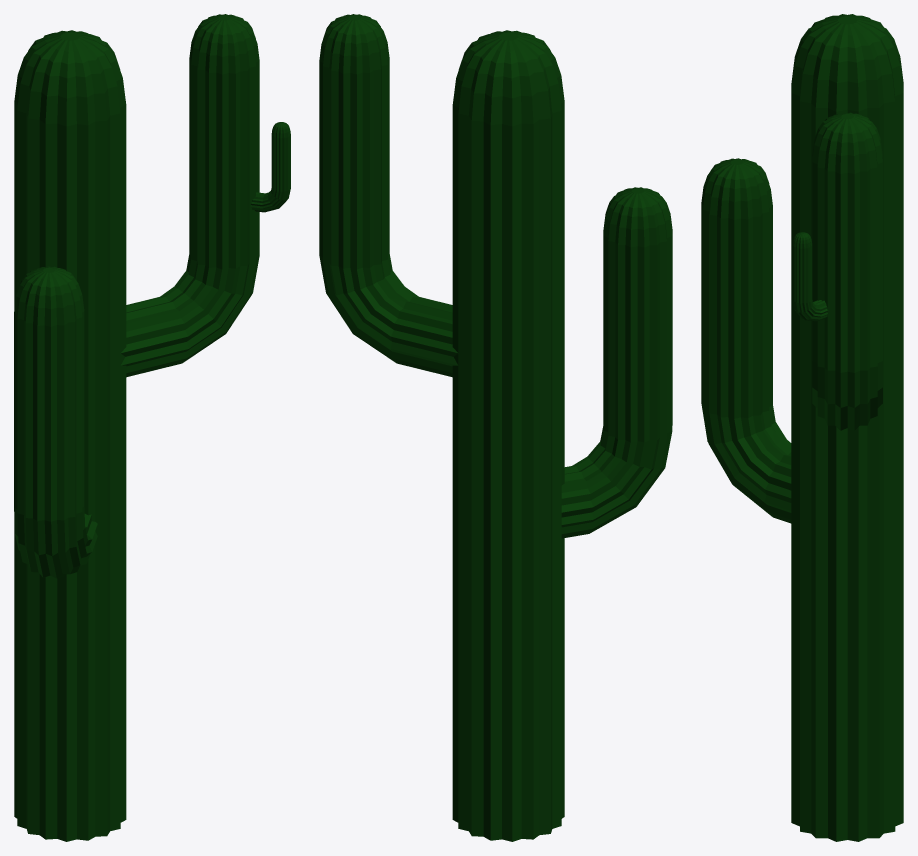
Rendered from cactus1.obj.
3 views of the same model, side by side, from view 1: azimuth 30°, elevation 25°; view 2: azimuth 150°, elevation 25°; view 3: azimuth 270°, elevation 25° (orthographic). The views are drawn at different scales.
Parts seen in each view (by area): view 1: Circle.002; view 2: Circle.002; view 3: Circle.002.
Part boxes in pixels (left/top/right/bottom): Circle.002: left=14, top=14, right=290, bottom=841; Circle.002: left=319, top=14, right=672, bottom=841; Circle.002: left=701, top=14, right=903, bottom=841.
Size of the model in its own units: 9.05 by 22.34 by 5.14.
